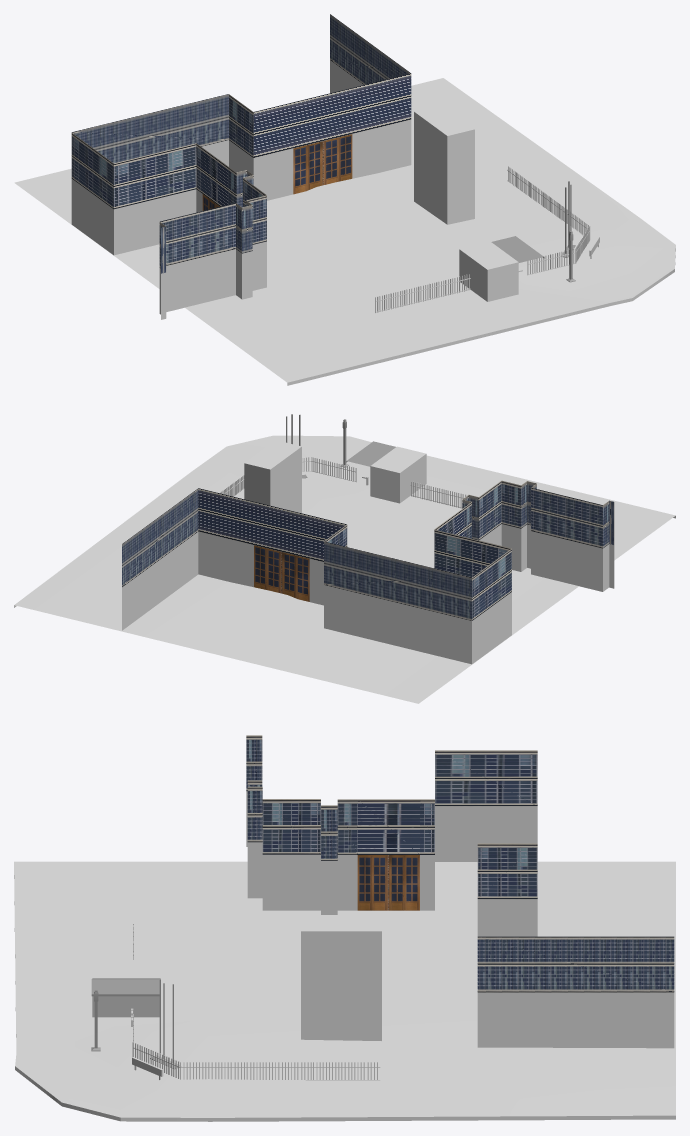
Rendered from SanBuenaFBX.fbx.
3 views of the same model, one above another, from view 1: azimuth 30°, elevation 25°; view 2: azimuth 150°, elevation 25°; view 3: azimuth 270°, elevation 25° (orthographic). The views are drawn at different scales.
Visible parts, largest first — view 1: pPlane3, pPlane2, pCube56, pCube45, pPlane1, pCube49, pCube48, pCube38; view 2: pPlane2, pPlane3, pCube56, pCube45, pPlane1, pCube48, pCube38; view 3: pPlane3, pPlane2, pCube56, pCube45, pPlane1, pCube55, pCube54, pCube36, pCube37.
Boxes of the visible parts, x1,y1,x2,y2 form: pPlane3: [14, 78, 675, 385]; pPlane2: [71, 14, 411, 319]; pCube56: [414, 105, 474, 224]; pCube45: [459, 241, 518, 301]; pPlane1: [491, 236, 544, 262]; pCube49: [375, 286, 423, 313]; pCube48: [423, 274, 470, 301]; pCube38: [527, 248, 575, 274]; pPlane2: [122, 480, 614, 664]; pPlane3: [14, 435, 675, 703]; pCube56: [244, 440, 301, 513]; pCube45: [370, 446, 426, 503]; pPlane1: [346, 441, 395, 466]; pCube48: [410, 481, 455, 506]; pCube38: [311, 457, 356, 482]; pPlane3: [14, 861, 675, 1121]; pPlane2: [246, 735, 674, 1048]; pCube56: [301, 915, 381, 1040]; pCube45: [92, 959, 160, 1017]; pPlane1: [91, 979, 159, 996]; pCube55: [313, 1062, 380, 1080]; pCube54: [246, 1062, 313, 1080]; pCube36: [180, 1062, 246, 1079]; pCube37: [132, 1042, 180, 1078].
Bounding box in the file's own units: 275 × 54.01 × 281.
